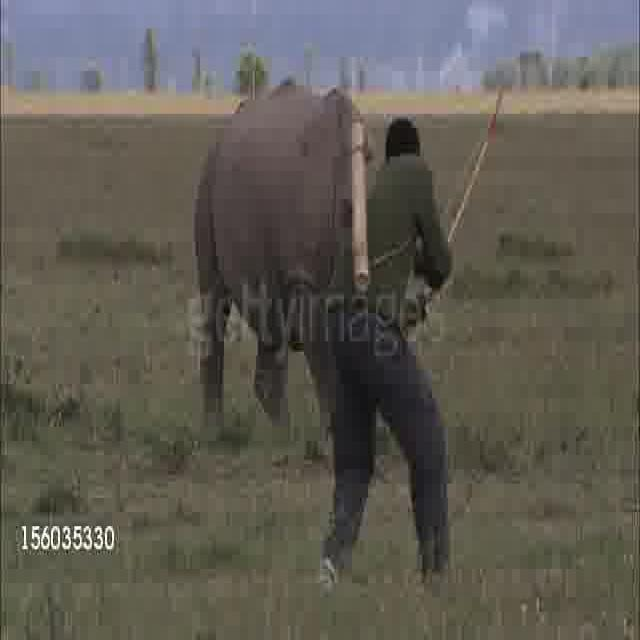poacher: (285, 190, 426, 576)
weapon: (114, 214, 316, 298)
